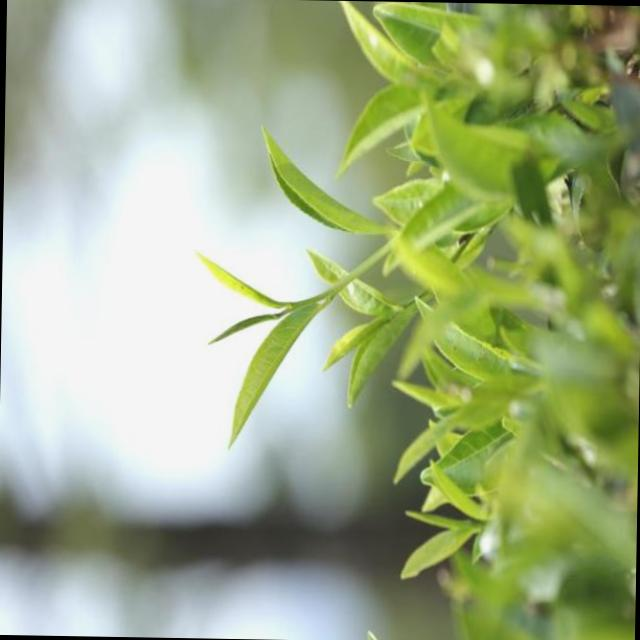Stem: (289, 302, 299, 309)
